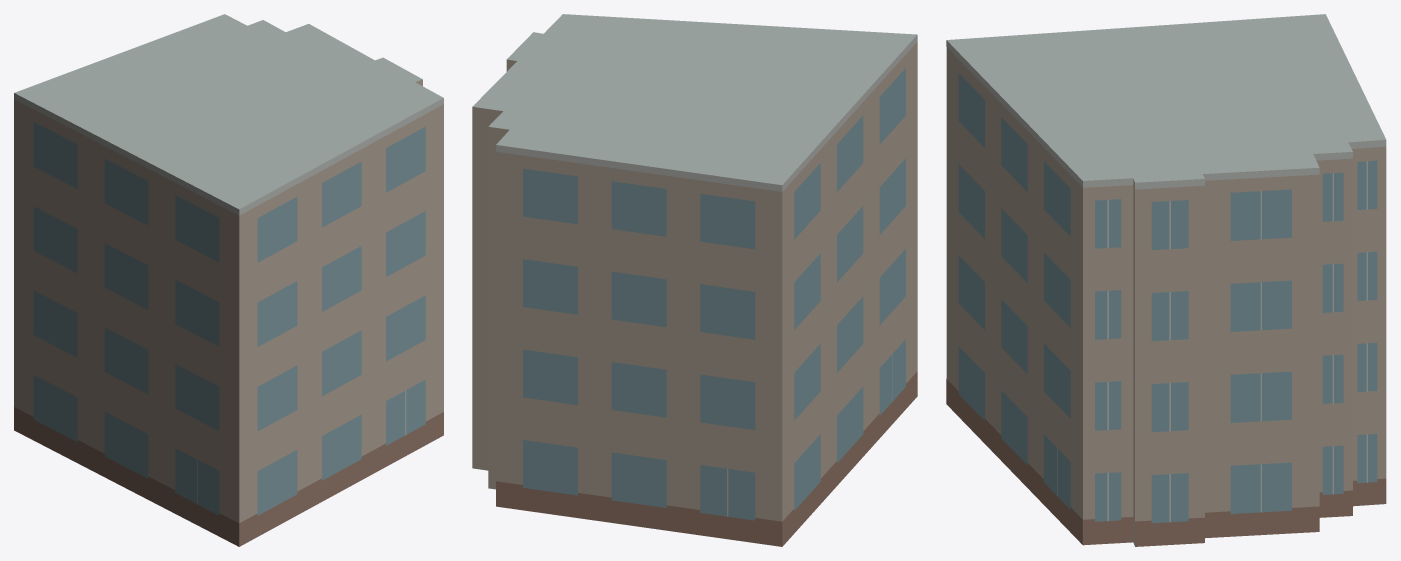
Rendered from survey-upis-32671276.glb.
3 renders of one model, left to right at view 1: azimuth 30°, elevation 25°; view 2: azimuth 150°, elevation 25°; view 3: azimuth 270°, elevation 25°, orthographic. The views are drawn at different scales.
Parts seen in each view (by area): view 1: survey-upis-32671276.tmp; view 2: survey-upis-32671276.tmp; view 3: survey-upis-32671276.tmp.
Boxes of the visible parts, x1=… form: survey-upis-32671276.tmp: x1=14, y1=14, x2=443, y2=546; survey-upis-32671276.tmp: x1=472, y1=14, x2=917, y2=546; survey-upis-32671276.tmp: x1=946, y1=14, x2=1386, y2=546.
Size of the model in its own units: 13 by 13.07 by 14.32.
